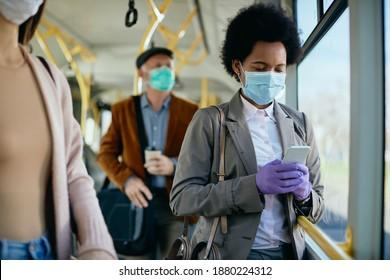gloves: (256, 156, 313, 200)
